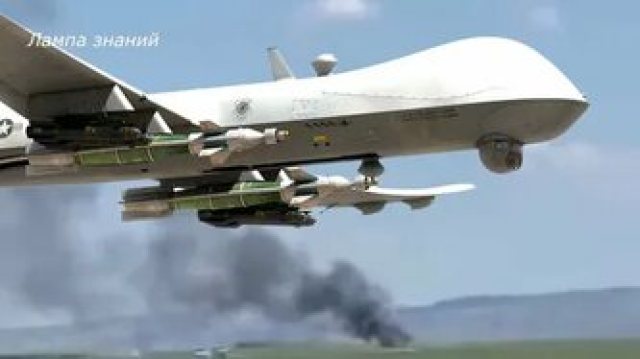military drone: (0, 14, 591, 229)
